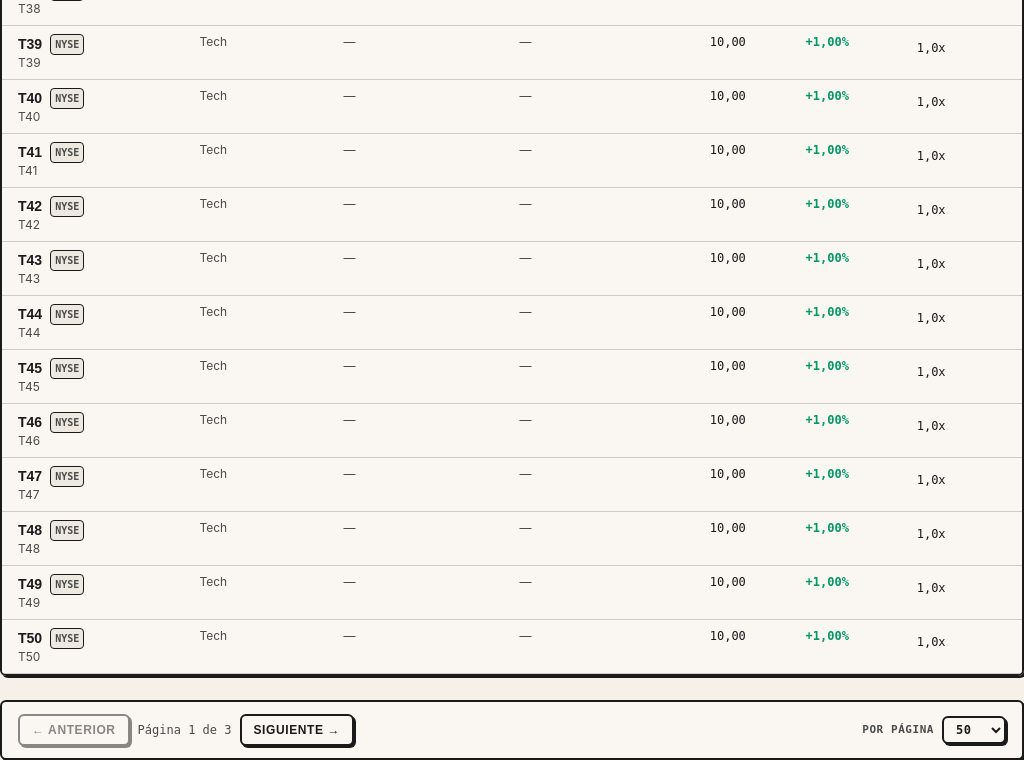
Test: ScreenerPage pagination › moves forward and back and shows the range
(page scrolled)
Expected: the text "Página 1 de 3" is shown, top-left (138, 722), bottom-right (232, 738)
Expected: the button "← Anterior" is disabled, top-left (18, 714), bottom-right (130, 746)
Click the button "Siguiente →".
click(297, 730)  # box top-left (240, 714), bottom-right (354, 746)
(page scrolled)
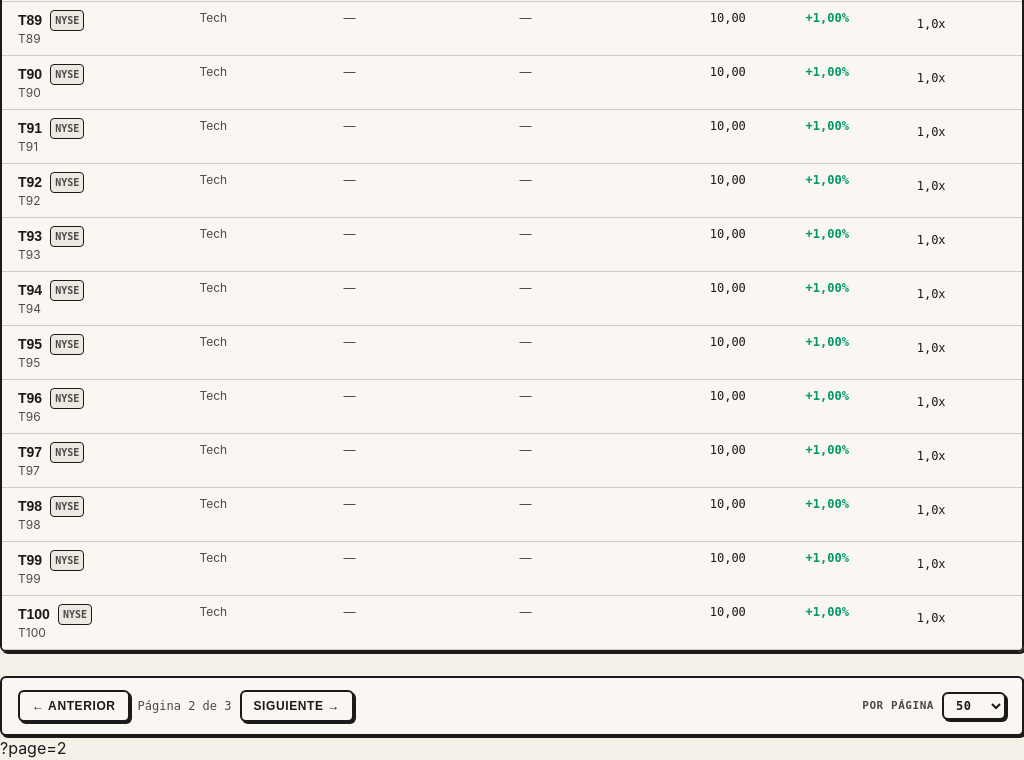
Now the text "Página 2 de 3" is shown, box top-left (138, 698), bottom-right (232, 714)
Now the text with test id "url" reads "?page=2", box top-left (0, 738), bottom-right (67, 758)
Click the button "Siguiente →".
click(297, 706)  # box top-left (240, 690), bottom-right (354, 722)
(page scrolled)
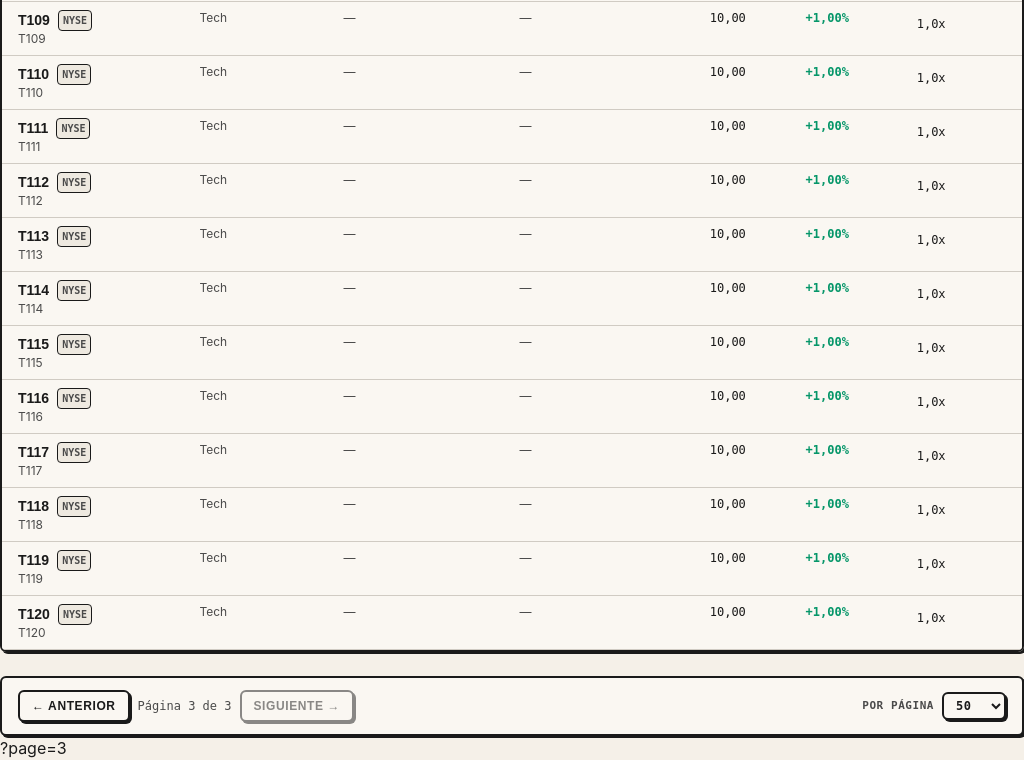
Now the text "Página 3 de 3" is shown, box top-left (138, 698), bottom-right (232, 714)
Now the button "Siguiente →" is disabled, box top-left (240, 690), bottom-right (354, 722)
Click the button "← Anterior".
click(74, 706)  # box top-left (18, 690), bottom-right (130, 722)
(page scrolled)
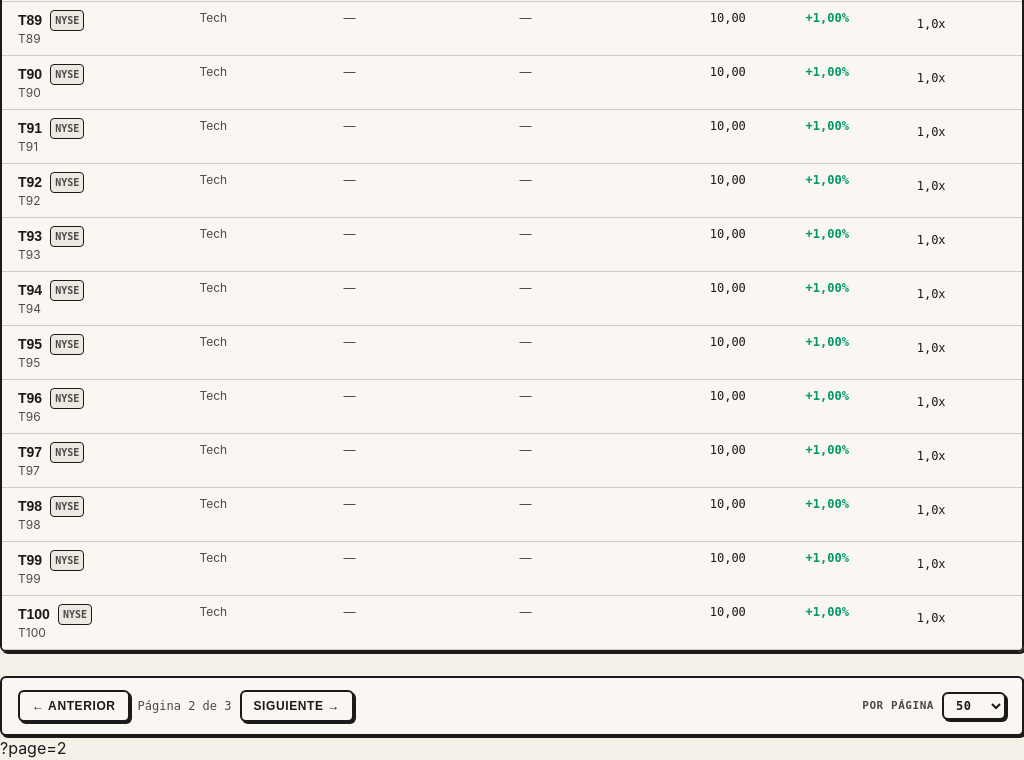
Now the text "Página 2 de 3" is shown, box top-left (138, 698), bottom-right (232, 714)
